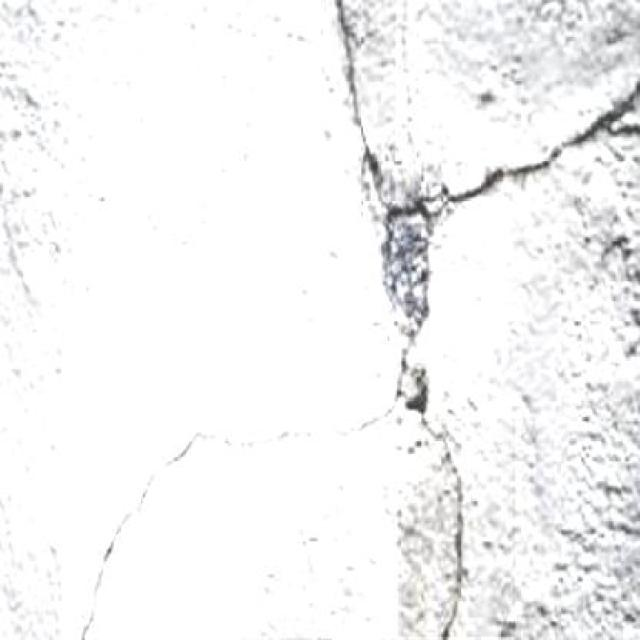Crack: (296, 0, 640, 357), (73, 393, 389, 629), (398, 415, 492, 640)
